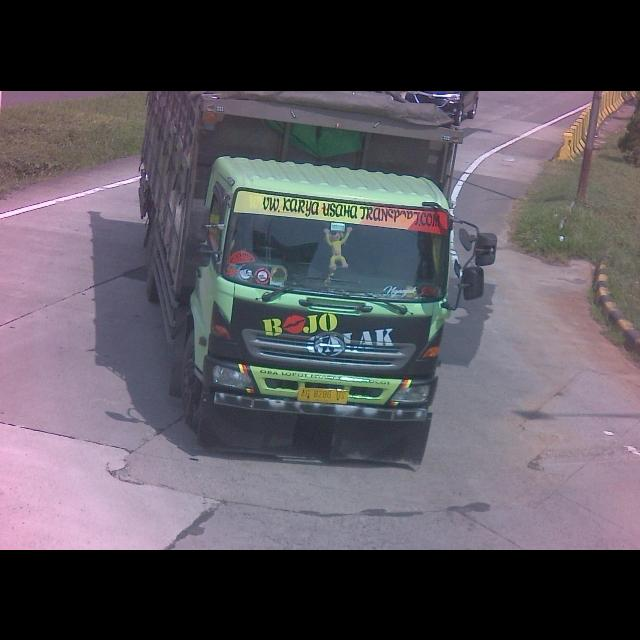plate: (297, 383, 349, 402)
